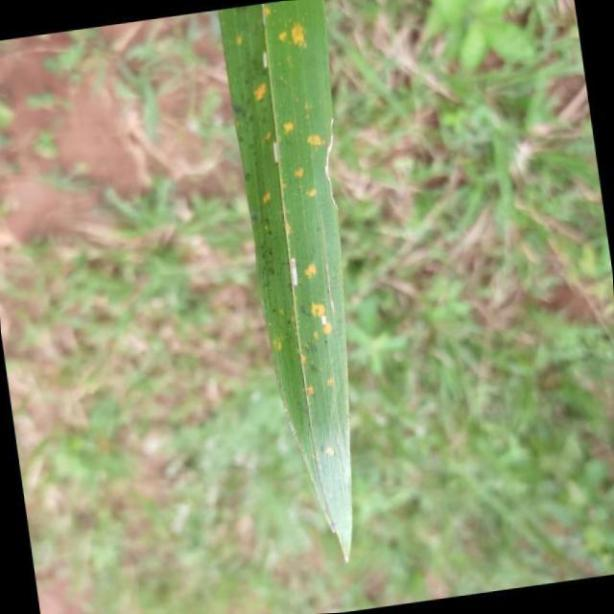Kalium: (216, 0, 356, 571)
